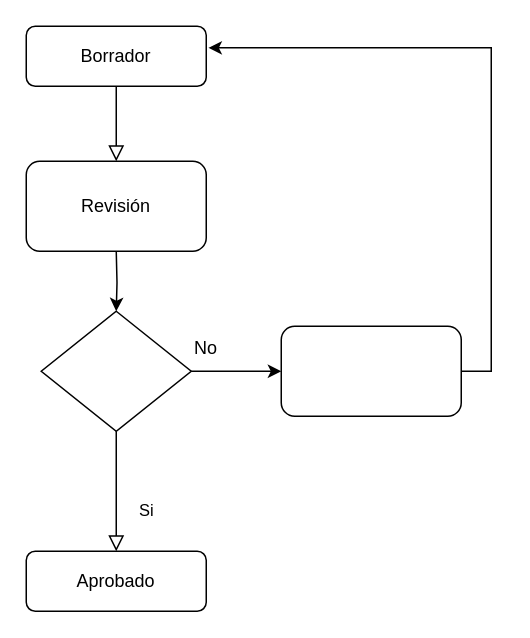
The diagram is 530 pixels wide and 638 high, and some of its shapes have lost their labels. The shapes that lost their labels are listed below. From the top down, each one's centre as x and y in pixels, then its label:
(x=115, y=370): ¿Es Correcto?
(x=370, y=370): Rechazado
